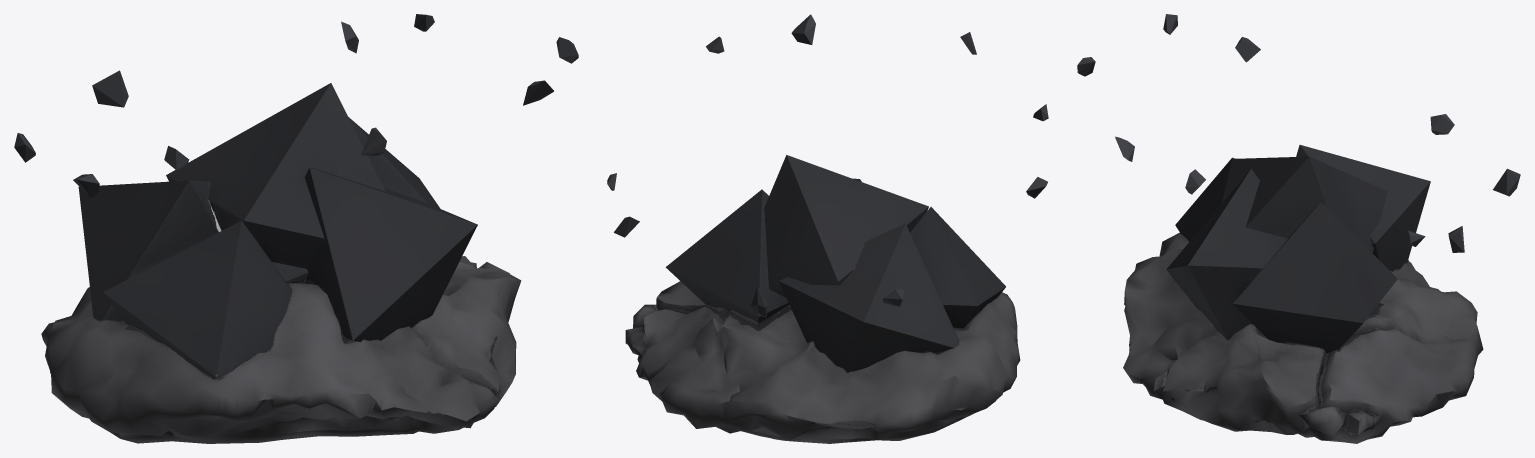
The model's file is magnetita.fbx.
The picture shows the model from 3 angles, left to right: view 1: azimuth 30°, elevation 25°; view 2: azimuth 150°, elevation 25°; view 3: azimuth 270°, elevation 25°; orthographic projection. The views are drawn at different scales.
Parts seen in each view (by area): view 1: magnetita, magnetita_orbita; view 2: magnetita, magnetita_orbita; view 3: magnetita, magnetita_orbita.
Part boxes in pixels (x1=…): magnetita: x1=41, y1=83, x2=521, y2=443; magnetita_orbita: x1=14, y1=14, x2=578, y2=198; magnetita: x1=625, y1=155, x2=1020, y2=443; magnetita_orbita: x1=607, y1=14, x2=1048, y2=317; magnetita: x1=1123, y1=145, x2=1483, y2=443; magnetita_orbita: x1=1077, y1=14, x2=1520, y2=252.
Size of the model in its own units: 2.38 by 1.74 by 2.39.
Materials: 2 (2 with a texture image).
